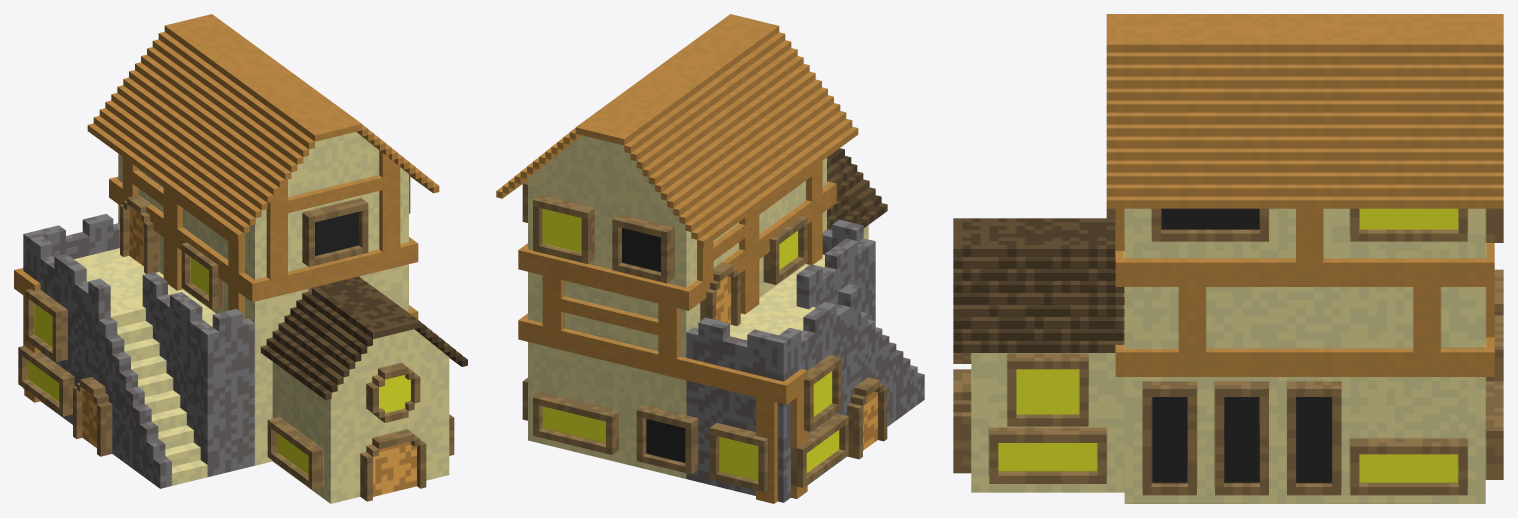
The model's file is House_2.glb.
3 views of the same model, side by side, from view 1: azimuth 30°, elevation 25°; view 2: azimuth 150°, elevation 25°; view 3: azimuth 270°, elevation 25° (orthographic). The views are drawn at different scales.
Visible parts, largest first — view 1: House_2; view 2: House_2; view 3: House_2.
Part boxes in pixels (x1,y1,x2,y2): House_2: (14, 14, 467, 503); House_2: (496, 14, 924, 503); House_2: (953, 14, 1503, 503).
Size of the model in its own units: 4.8 by 5.2 by 6.1.
1 material, 1 textured.
